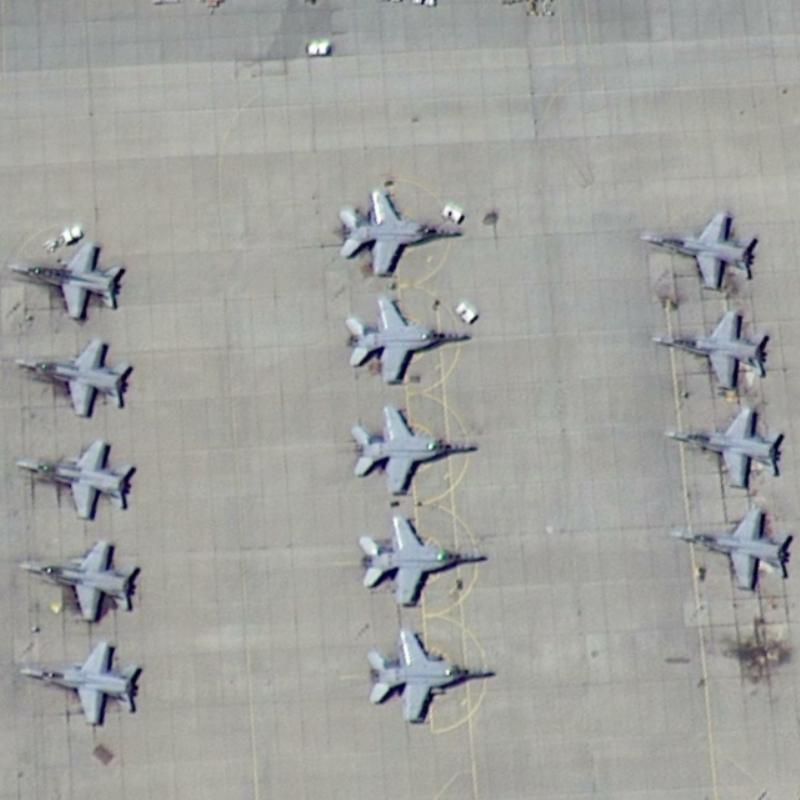A16: (344, 506, 492, 612), (338, 398, 481, 502), (363, 621, 498, 731), (330, 183, 468, 285), (338, 289, 475, 387), (11, 635, 148, 732), (662, 501, 790, 599), (6, 329, 138, 422), (14, 534, 143, 629), (9, 434, 139, 527), (646, 304, 776, 396), (633, 204, 762, 296), (653, 404, 789, 491), (3, 230, 130, 323)
